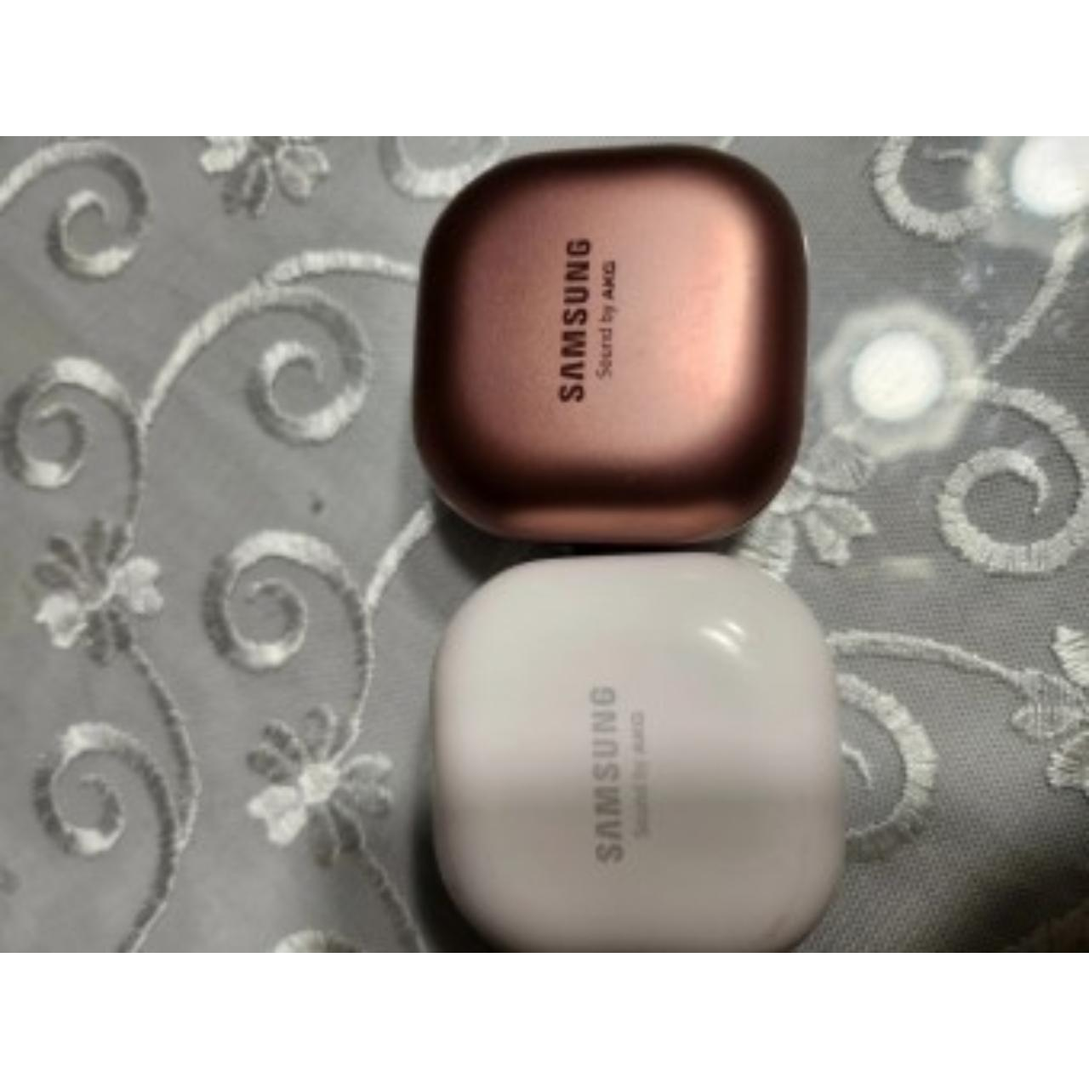Buds: (422, 547, 850, 952), (406, 147, 814, 551)
